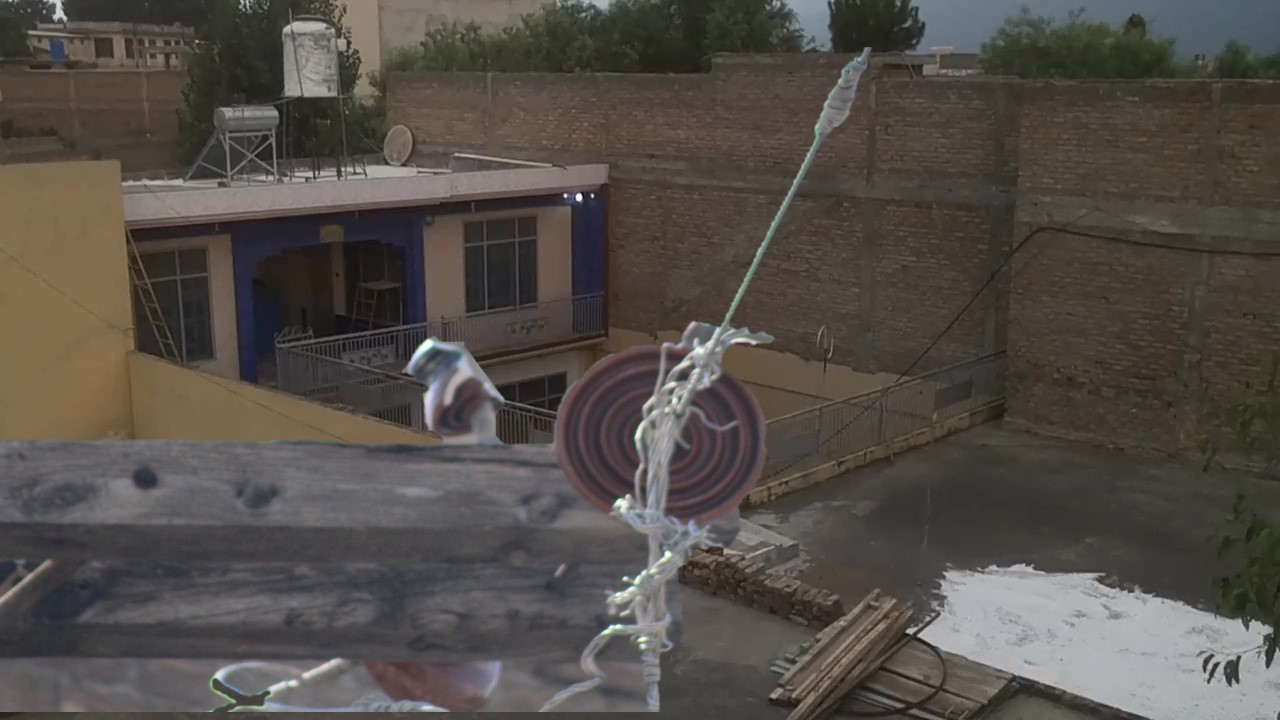defect_pin: (402, 322, 507, 450)
insulator_disc: (549, 337, 773, 540)
